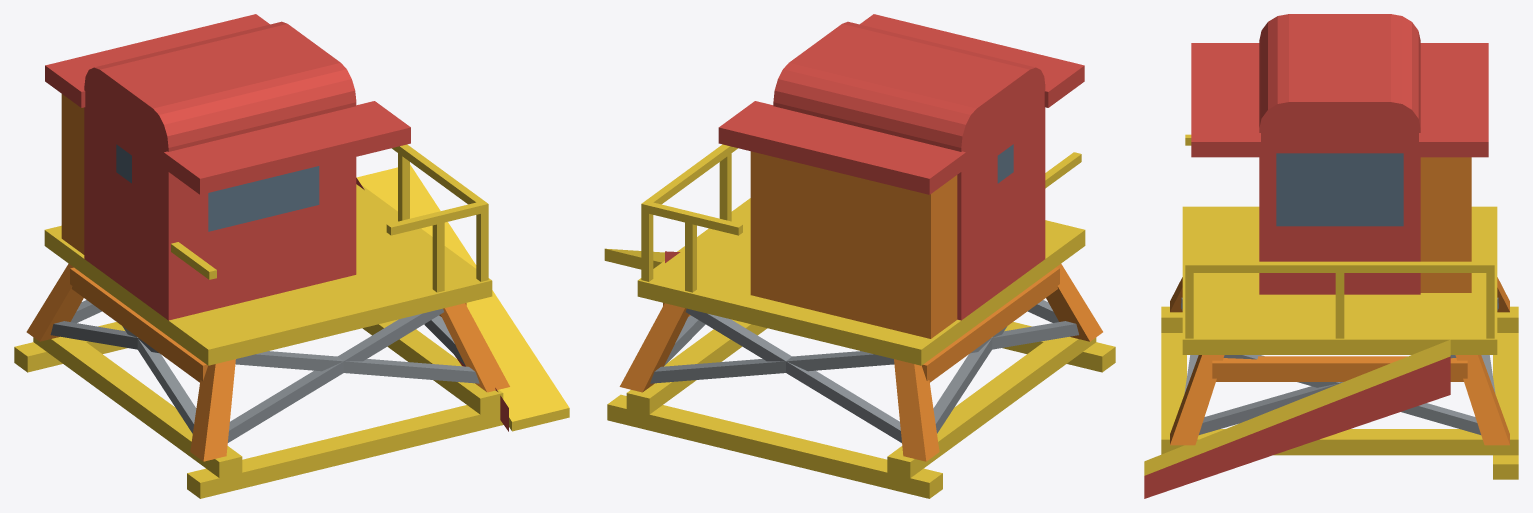
File: mia-lifeguard-tower.glb
3 renders of one model, left to right at view 1: azimuth 30°, elevation 25°; view 2: azimuth 150°, elevation 25°; view 3: azimuth 270°, elevation 25°, orthographic. The views are drawn at different scales.
Visible parts, largest first — view 1: South Beach Lifeguard Tower (13th Street); view 2: South Beach Lifeguard Tower (13th Street); view 3: South Beach Lifeguard Tower (13th Street).
Part boxes in pixels (x1,y1,x2,y2): South Beach Lifeguard Tower (13th Street): (14,14,569,498); South Beach Lifeguard Tower (13th Street): (604,14,1115,498); South Beach Lifeguard Tower (13th Street): (1144,14,1518,498).
Bounding box in the file's own units: 4.74 × 4.2 × 4.4.
